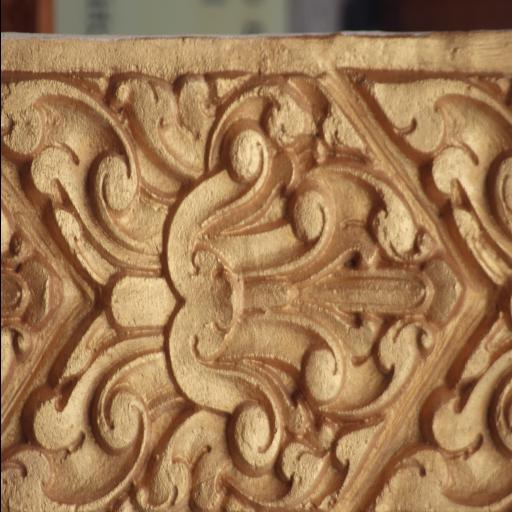la: (162, 132, 430, 480), (0, 61, 166, 512), (369, 49, 512, 288), (388, 306, 512, 512)
